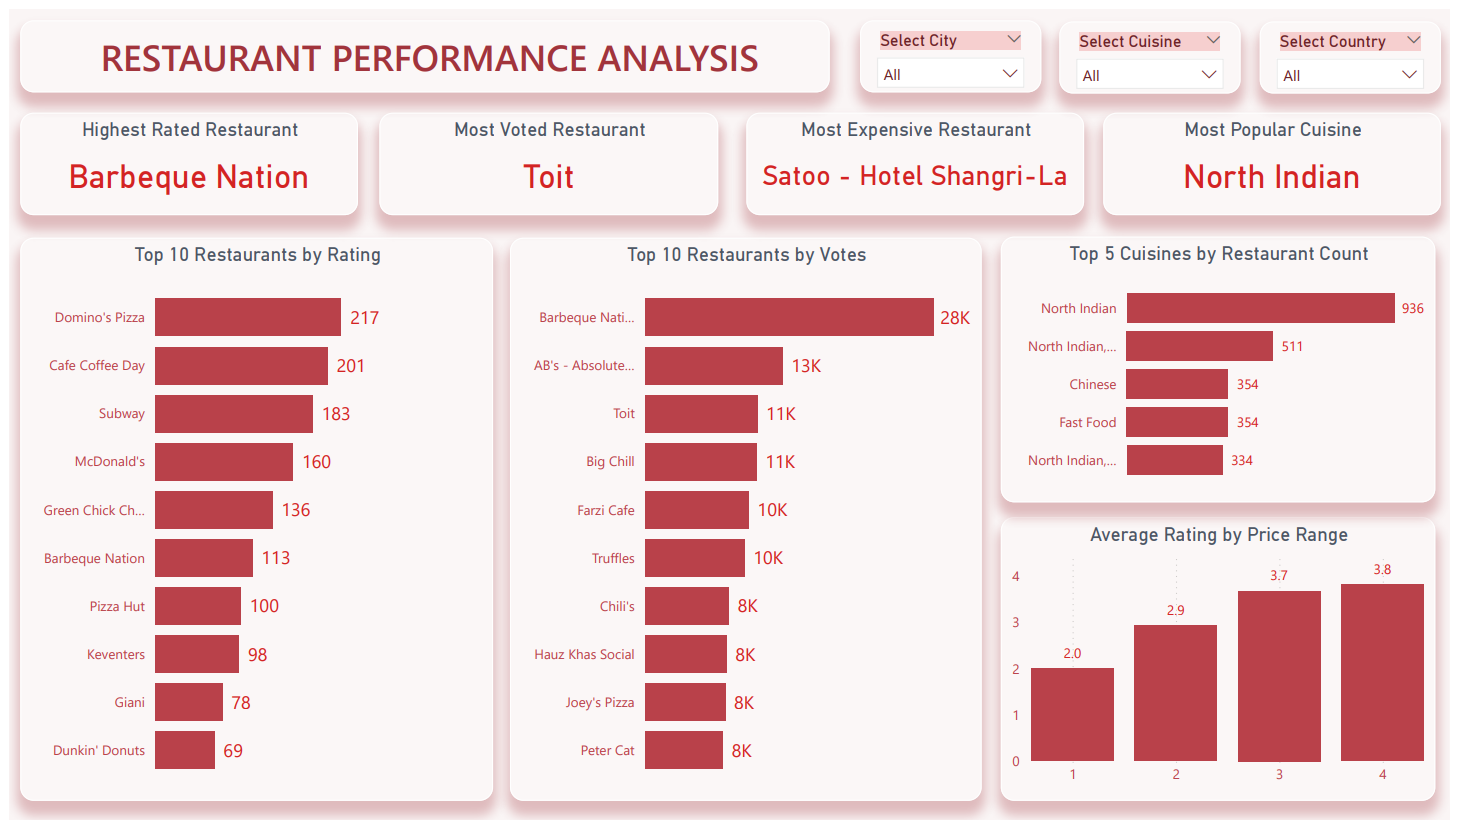

This screenshot's page, from the dashboard's own definition file:
{"tool":"powerbi","page":{"name":" RESTAURANT PERFORMANCE ANALYSIS","canvas":[1280,720],"ordinal":1},"visuals":[{"type":"textbox","box":[9.6,9.6,719,64.5],"z":0},{"type":"slicer","fields":{"Values":["Dataset  (1).City"]},"box":[756.1,9.6,160.5,64.5],"z":1000},{"type":"slicer","fields":{"Values":["Dataset  (1).Cuisines"]},"box":[933.1,11,160.5,64.5],"z":2000},{"type":"slicer","fields":{"Values":["Country.Country Name"]},"box":[1111.5,11,160.5,64.5],"z":3000},{"type":"card","title":"Highest Rated Restaurant","fields":{"Values":["Country.Highest Rated Restaurant"]},"box":[9.6,91.9,300.5,90.6],"z":4000},{"type":"card","title":"Most Voted Restaurant","fields":{"Values":["Country.Most Voted Restaurant"]},"box":[329.3,91.9,300.5,90.6],"z":5000},{"type":"card","title":"Most Expensive Restaurant","fields":{"Values":["Country.Most Expensive Restaurant"]},"box":[654.5,91.9,300.5,90.6],"z":6000},{"type":"card","title":"Most Popular Cuisine","fields":{"Values":["Country.Most Popular Cuisine"]},"box":[971.5,91.9,300.5,90.6],"z":7000},{"type":"clusteredBarChart","title":"Top 10 Restaurants by Rating","fields":{"Category":["Dataset  (1).Restaurant"],"Y":["Sum(Dataset  (1).Rating)"]},"box":[9.6,203.1,419.9,499.5],"z":8000},{"type":"clusteredBarChart","title":"Top 10 Restaurants by Votes","fields":{"Category":["Dataset  (1).Restaurant"],"Y":["Sum(Dataset  (1).Votes)"]},"box":[444.6,203.1,419.9,499.5],"z":9000},{"type":"clusteredColumnChart","title":"Average Rating by Price Range","fields":{"Category":["Dataset  (1).Price range"],"Y":["Avg(Dataset  (1).Rating)"]},"box":[881,451.5,385.6,251.1],"z":10000},{"type":"clusteredBarChart","title":"Top 5 Cuisines by Restaurant Count","fields":{"Category":["Dataset  (1).Cuisines"],"Y":["CountNonNull(Dataset  (1).Restaurant Name)"]},"box":[881,201.7,385.6,236],"z":11000}]}

Visuals, with their boxes in screenshot pixels (x1, y1, x2, y2), scaled from the page's 1280x720 canvas onto the 1460x827 screenshot:
textbox: detection(11, 11, 831, 85)
slicer - Dataset  (1).City: detection(862, 11, 1045, 85)
slicer - Dataset  (1).Cuisines: detection(1064, 13, 1247, 87)
slicer - Country.Country Name: detection(1268, 13, 1451, 87)
"Highest Rated Restaurant" card: detection(11, 106, 354, 210)
"Most Voted Restaurant" card: detection(376, 106, 718, 210)
"Most Expensive Restaurant" card: detection(747, 106, 1089, 210)
"Most Popular Cuisine" card: detection(1108, 106, 1451, 210)
"Top 10 Restaurants by Rating" clusteredBarChart: detection(11, 233, 490, 807)
"Top 10 Restaurants by Votes" clusteredBarChart: detection(507, 233, 986, 807)
"Average Rating by Price Range" clusteredColumnChart: detection(1005, 519, 1445, 807)
"Top 5 Cuisines by Restaurant Count" clusteredBarChart: detection(1005, 232, 1445, 503)
